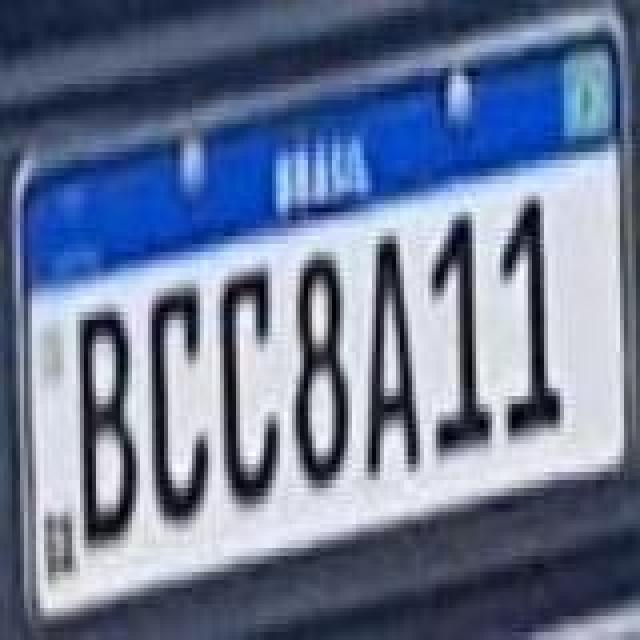1: (494, 194, 562, 446), (426, 214, 494, 458)
8: (292, 258, 348, 494)
A: (364, 226, 420, 478)
B: (82, 314, 142, 550)
C: (148, 282, 212, 526), (216, 266, 280, 510)
